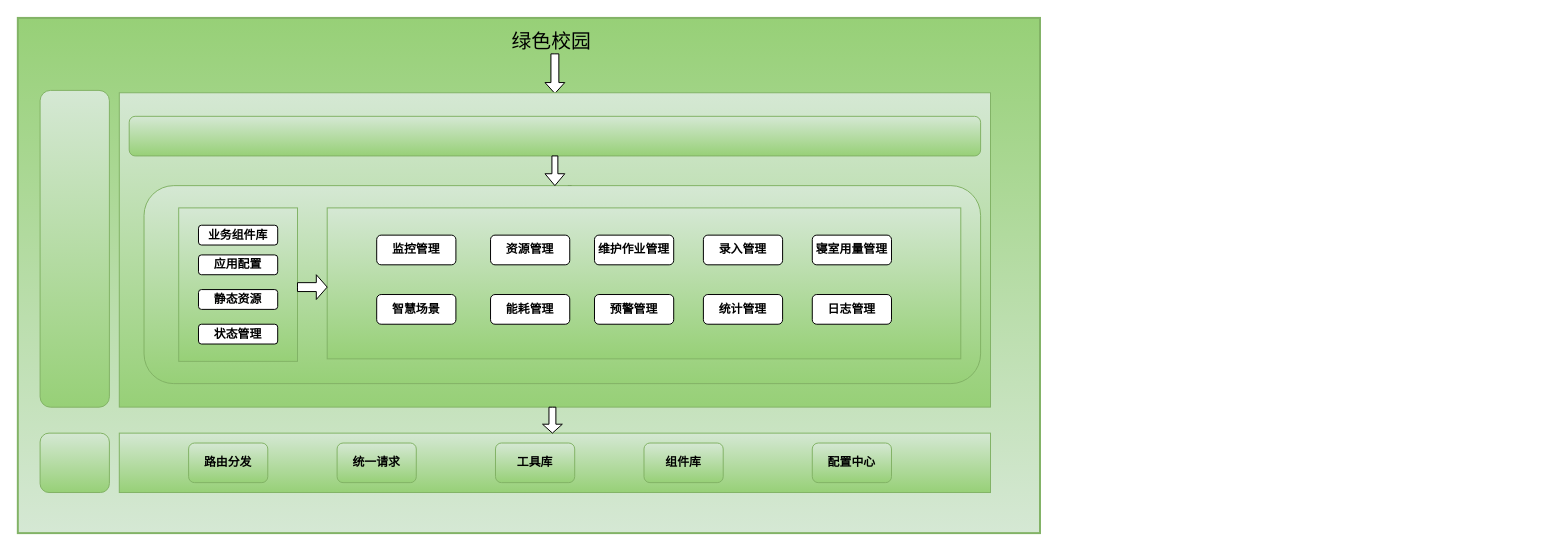
This 1562x551 diagram has some shape labels left out. The shapes that lost their labels are listed below. From the top down, each one's centre as x and y in pixels, then its label:
At (x=554, y=135): "权限管理".
At (x=74, y=248): "业务层".
At (x=74, y=462): "应用层".
